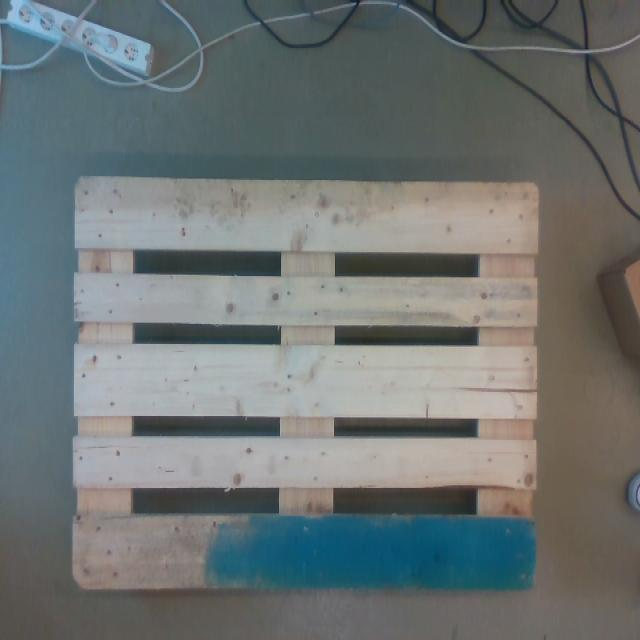pallet: (72, 177, 539, 589)
